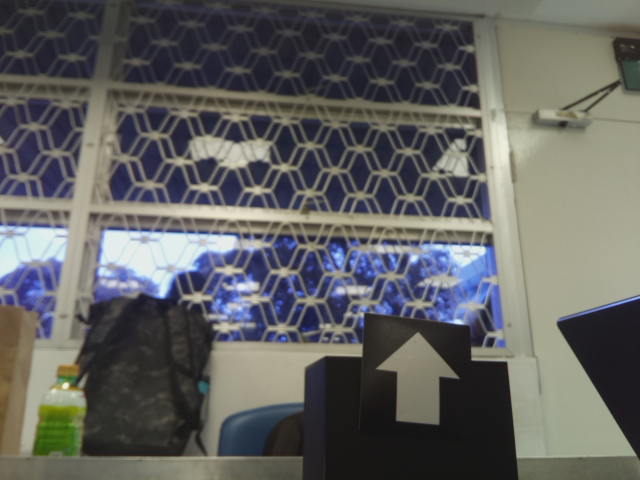up: (374, 321, 466, 441)
